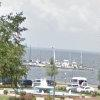Boat: (30, 56, 72, 70)
